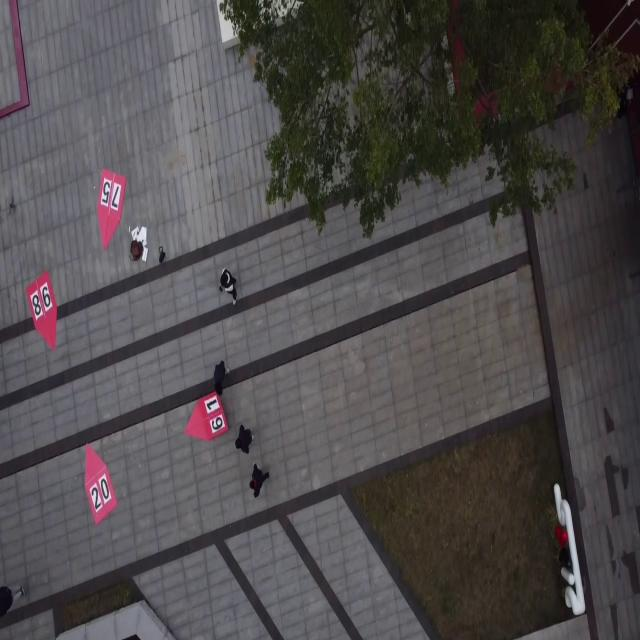-sign-: (79, 441, 120, 531), (22, 273, 64, 355), (90, 172, 130, 256), (186, 388, 230, 446)
